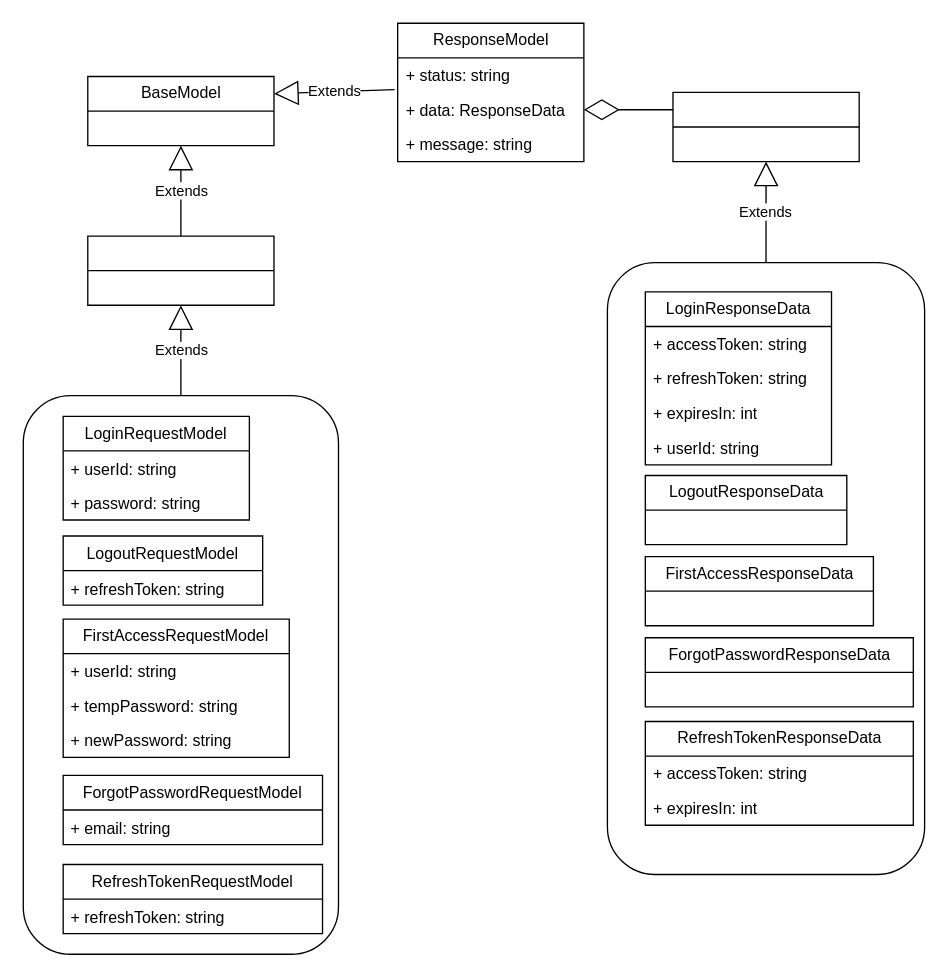
This 948x978 diagram has some shape labels left out. The centre of each missing label's shape, as x and y in pixels:
RequestModel: pixel 180 270
RespondeData: pixel 765 126
